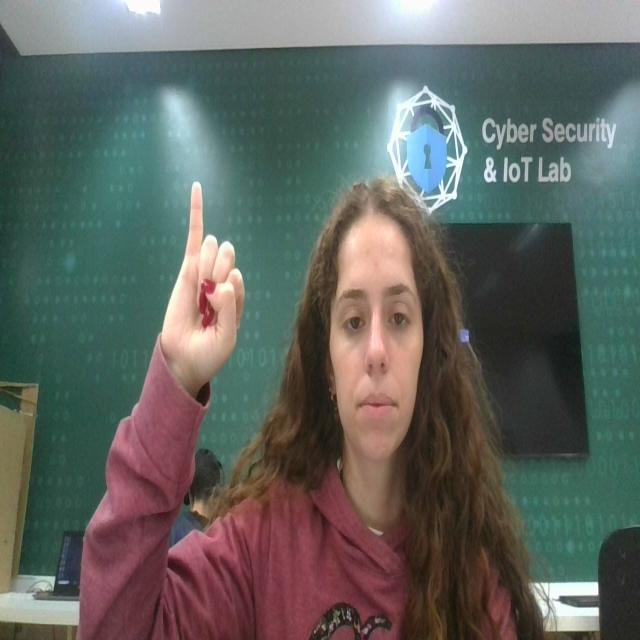I: (162, 171, 252, 391)
